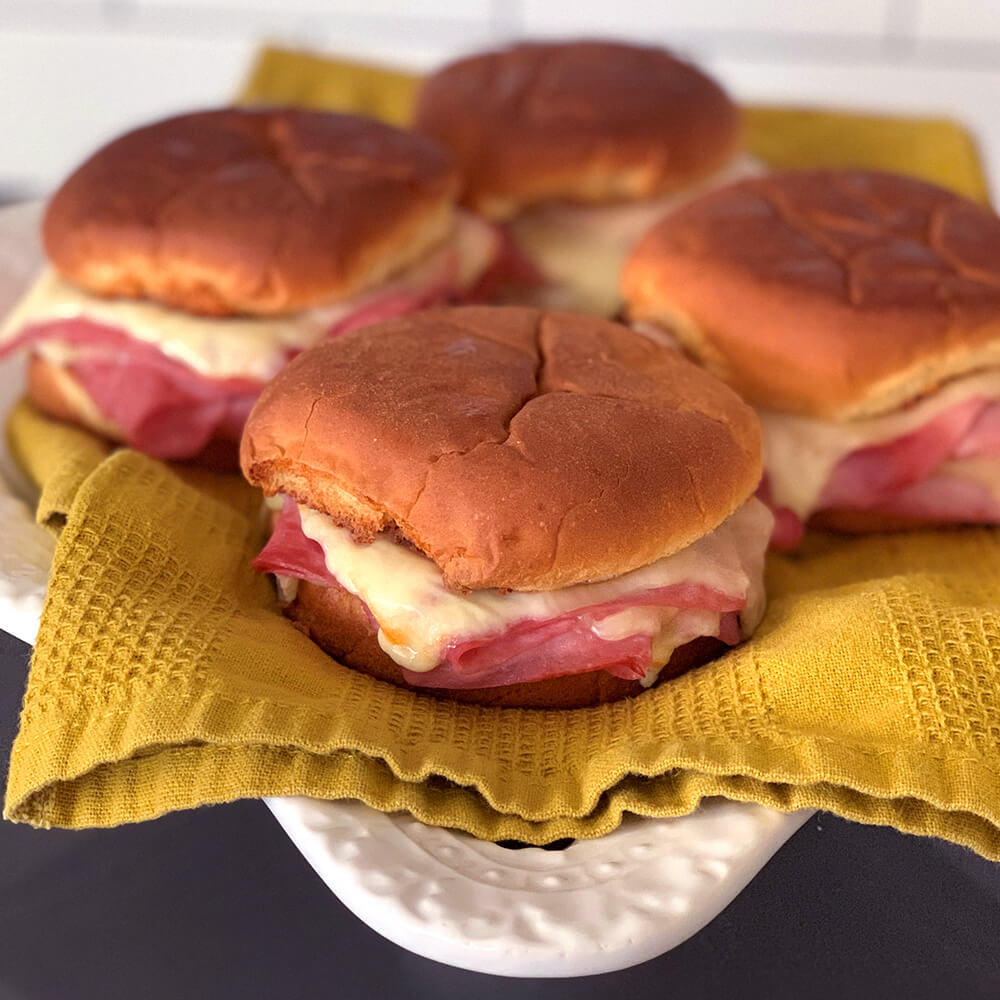hamburger_buns: (269, 300, 767, 705), (25, 77, 501, 466), (624, 171, 1000, 523)
